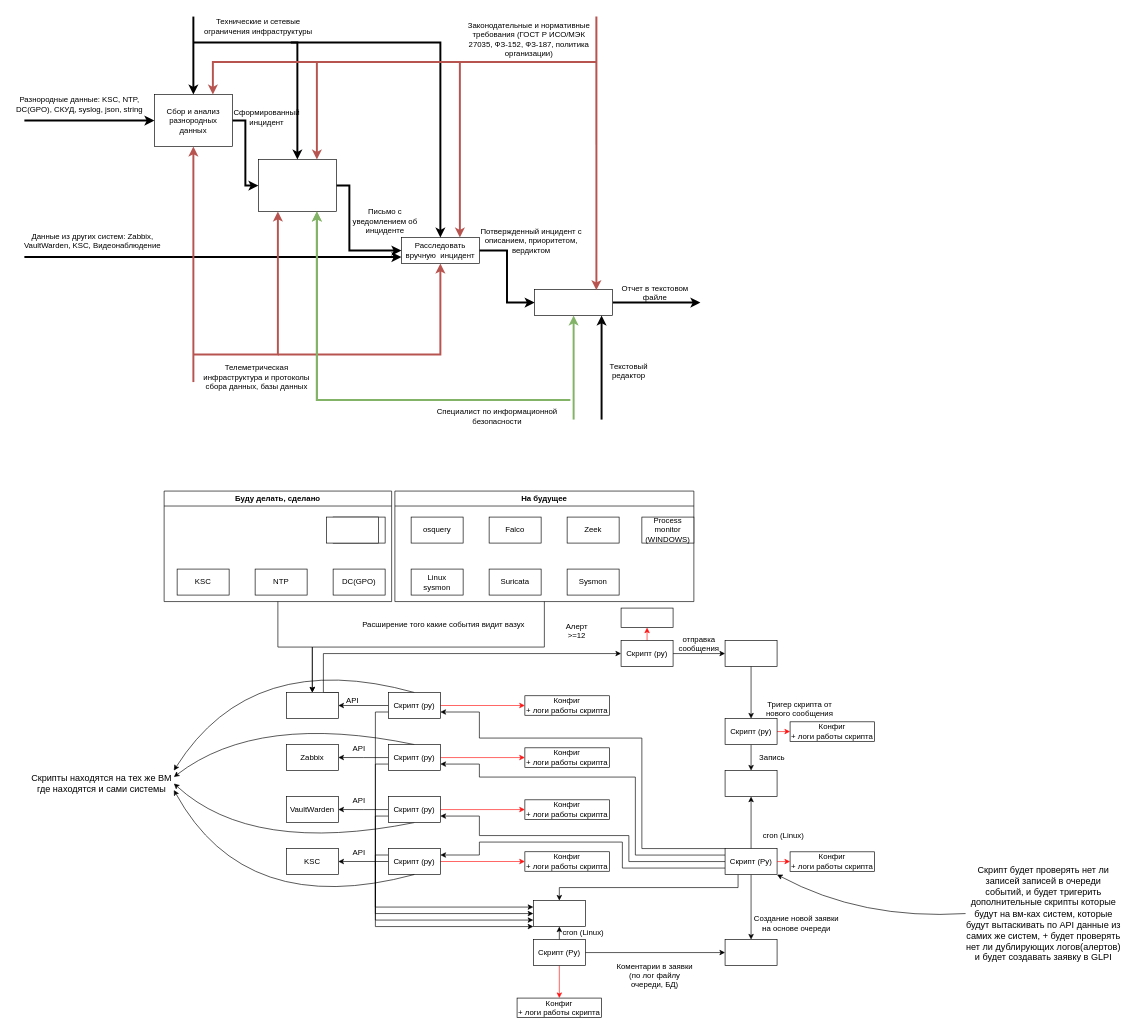
Image size: 1132x1029. Some labels were removed from this diagram. Here are the shapes that lost their labels. From the top down, the centre of each, then its label:
point (297, 185): Уведомить об инциденте на корпоративную почту
point (573, 302): Задокументировать отчет об инциденте
point (352, 529): СКУД
point (646, 617): Конфиг
point (750, 653): MatterMost
point (312, 705): Wazuh кластер
point (750, 783): Лог файл (очередь событий)
point (559, 913): Лог файл (очередь событий, БД)
point (750, 952): GLPI (инциденты)
